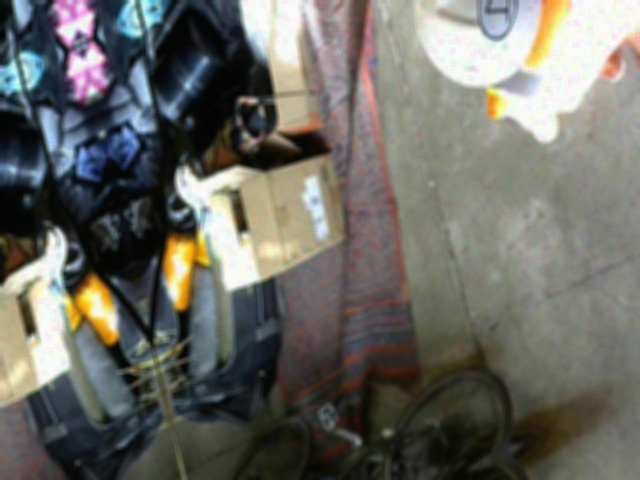one: (470, 0, 523, 48)
